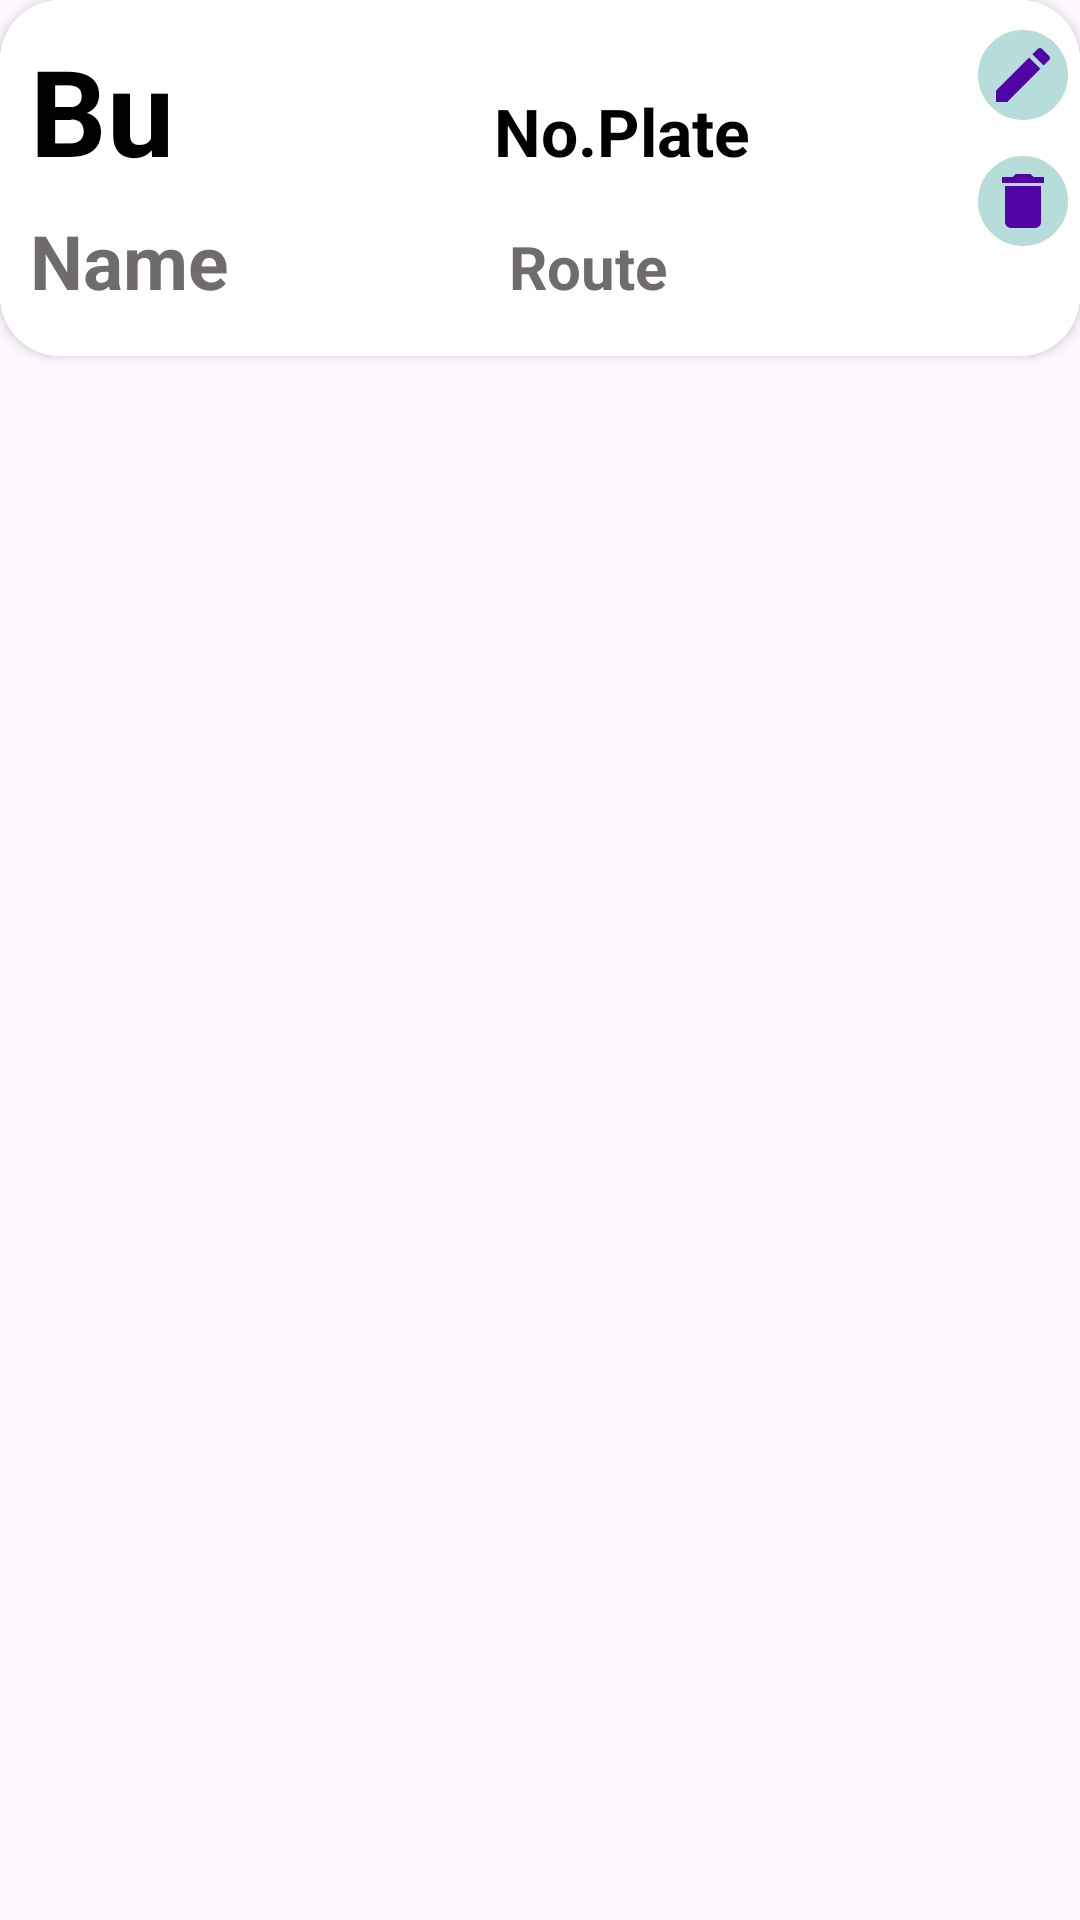

Locate icon controls on the screen. Image size 1080x1920, boxes as (x1, y1, x2, y2).
delete: (978, 156, 1068, 246)
edit: (978, 30, 1068, 120)
